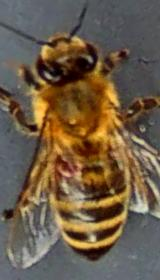varroa_mite: (46, 146, 84, 186)
